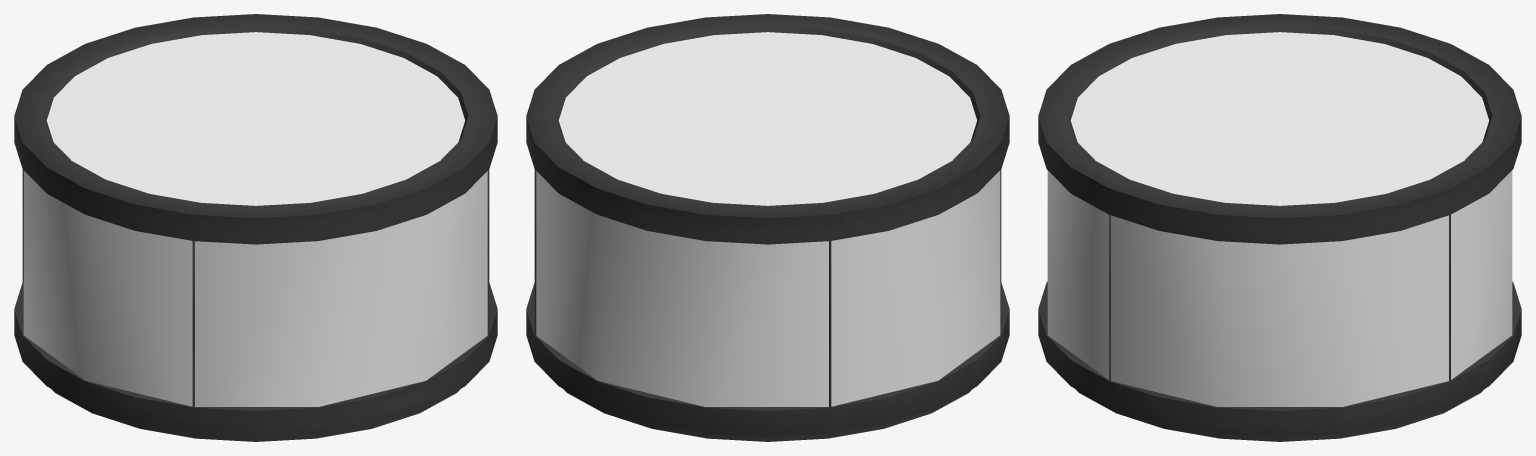
Rendered from oxi_tank_mk2.glb.
The picture shows the model from 3 angles, left to right: view 1: azimuth 30°, elevation 25°; view 2: azimuth 150°, elevation 25°; view 3: azimuth 270°, elevation 25°; orthographic projection.
Parts seen in each view (by area): view 1: SketchUp, SketchUp.006; view 2: SketchUp, SketchUp.006; view 3: SketchUp, SketchUp.006.
Part boxes in pixels (x1,y1,x2,y2): SketchUp: [23, 32, 487, 406]; SketchUp.006: [14, 14, 497, 441]; SketchUp: [536, 32, 1000, 406]; SketchUp.006: [526, 14, 1009, 441]; SketchUp: [1047, 32, 1512, 406]; SketchUp.006: [1038, 14, 1521, 441].
Size of the model in its own units: 1.25 by 0.65 by 1.25.
Materials: 2 (1 with a texture image).
